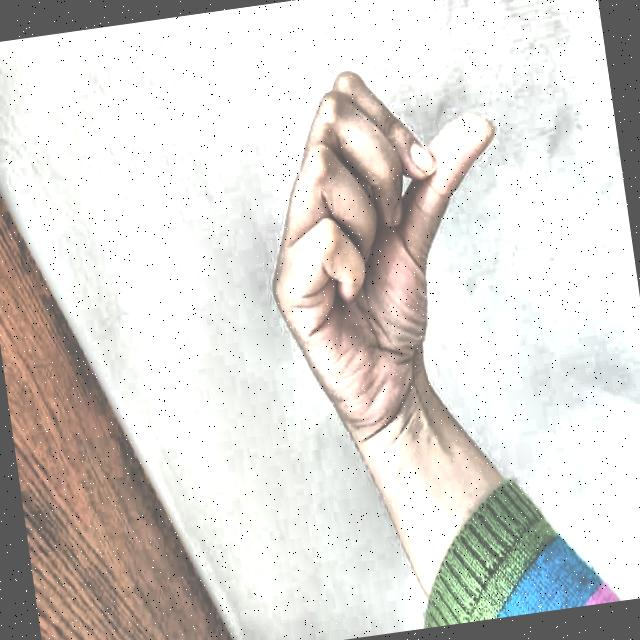Ay: (218, 29, 549, 464)
